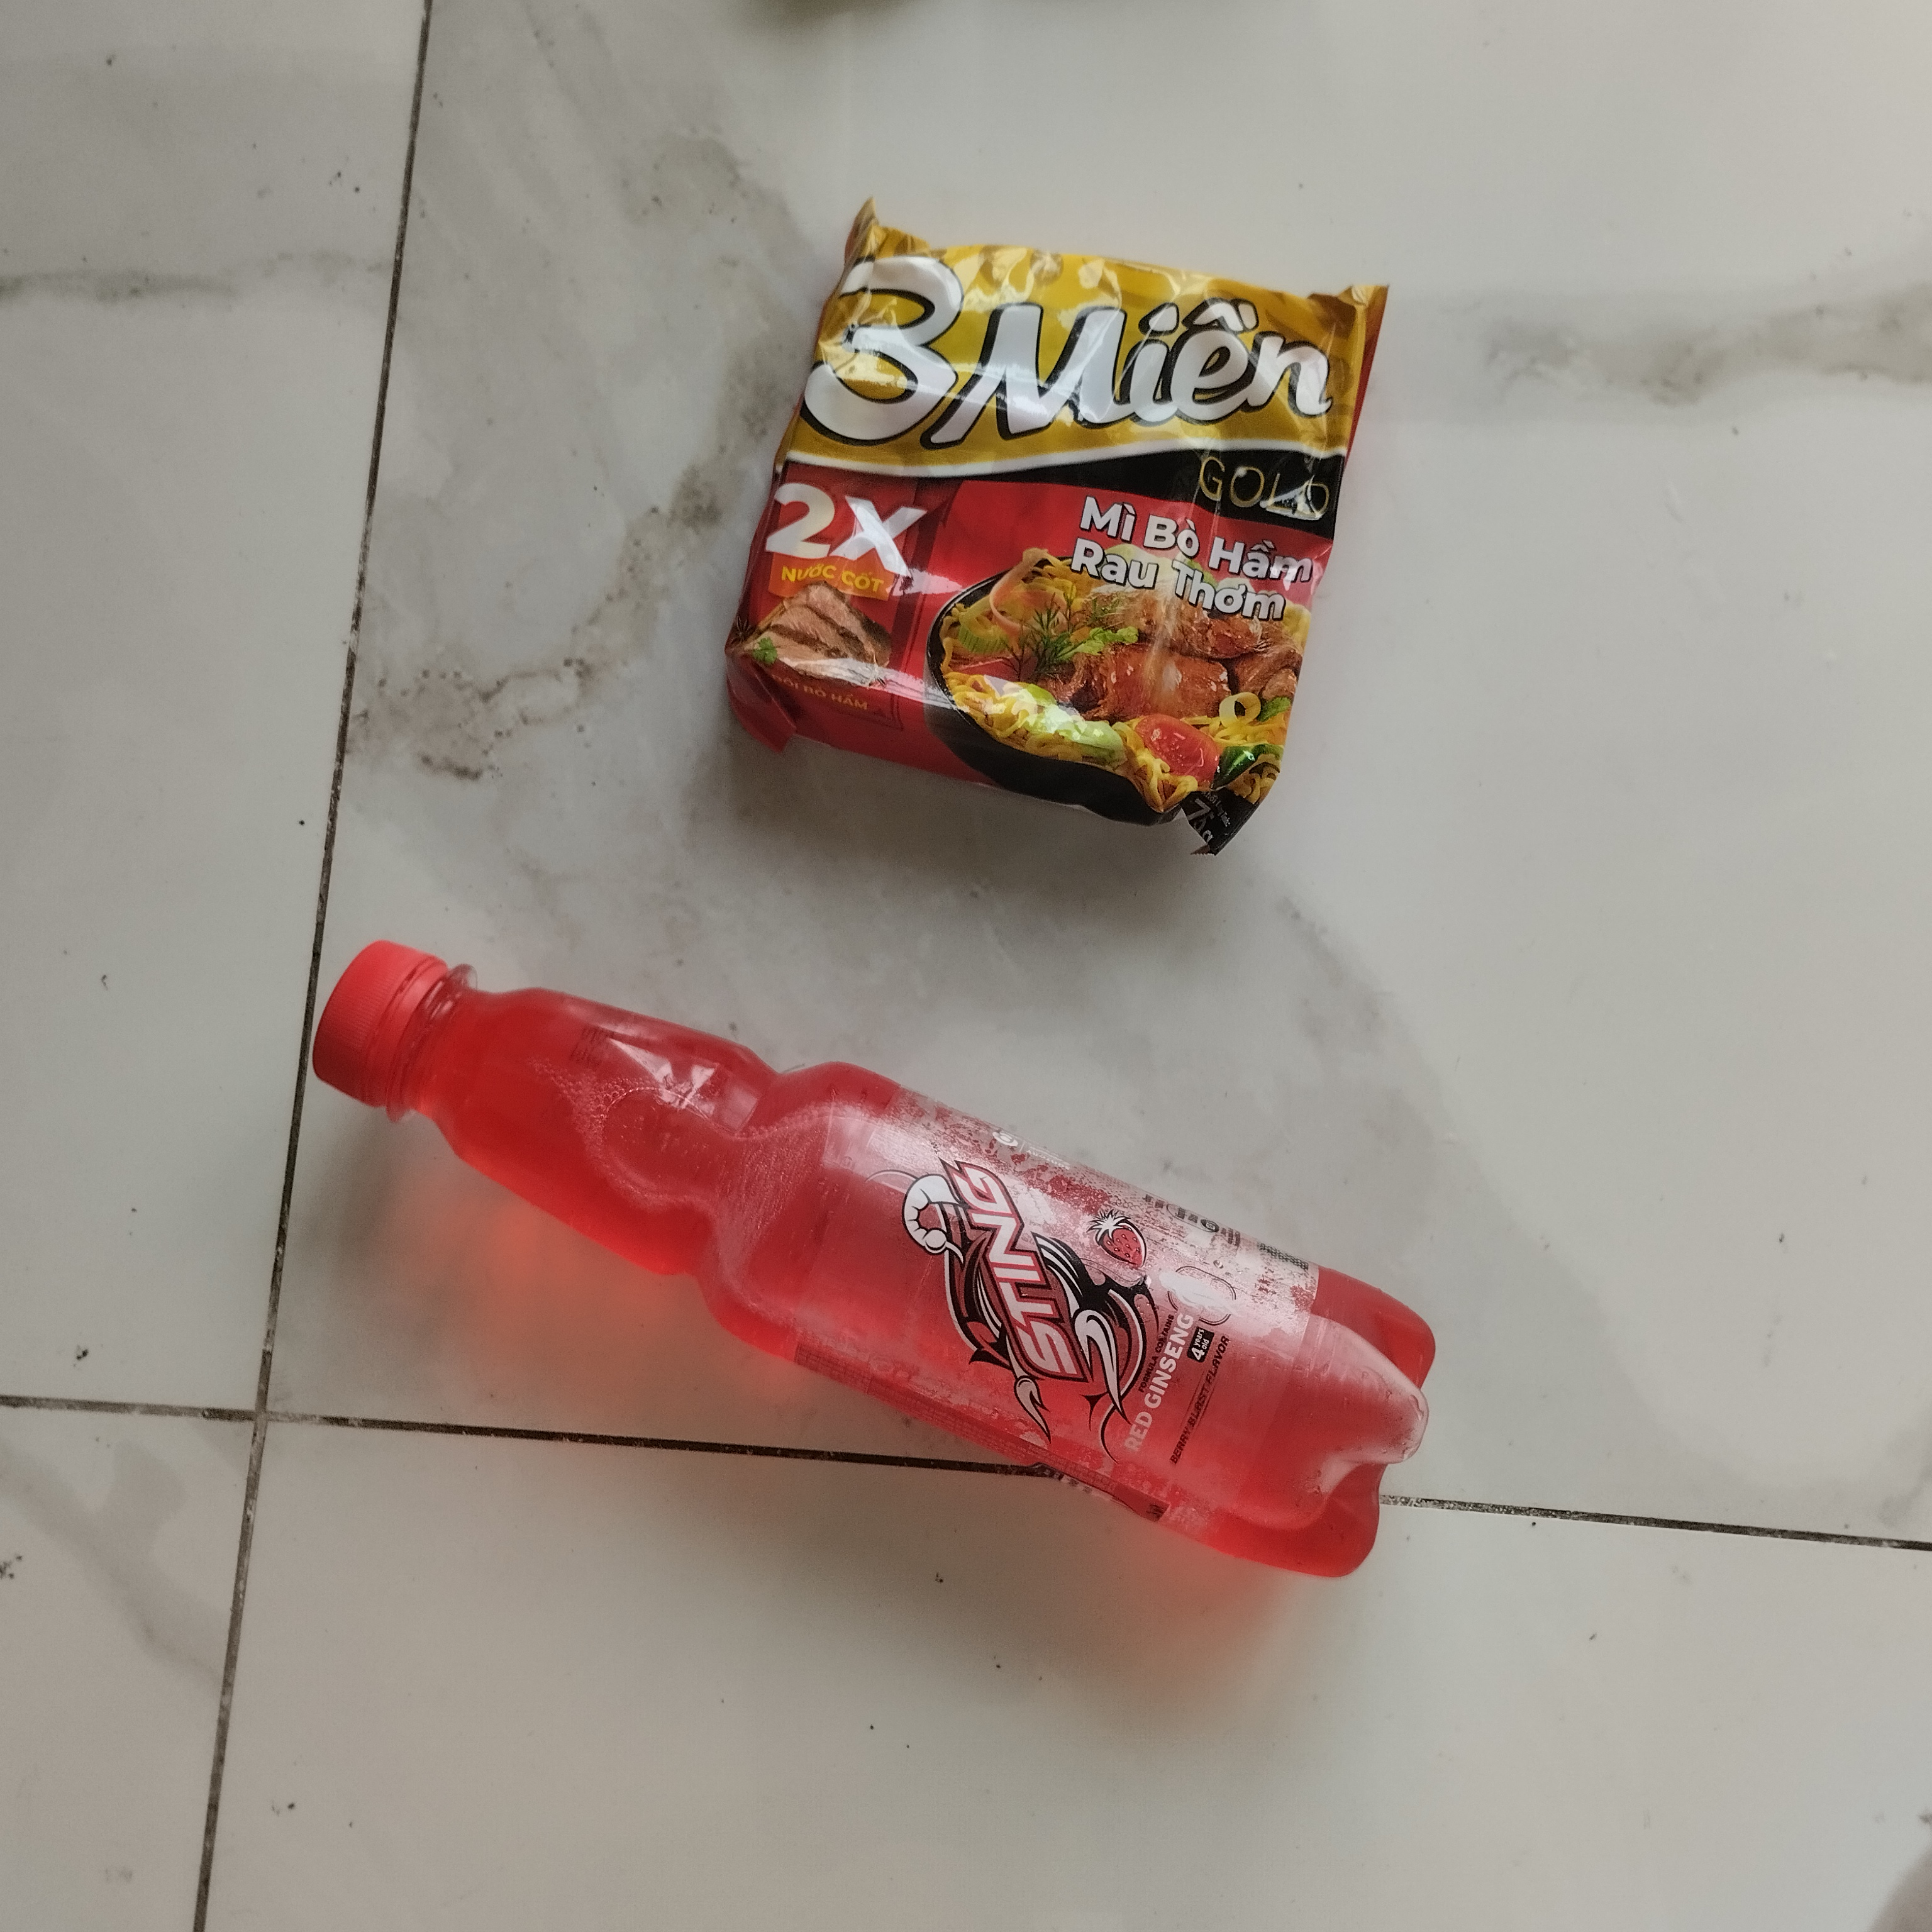3mien: (724, 196, 1408, 863)
Sting: (301, 941, 1447, 1573)
